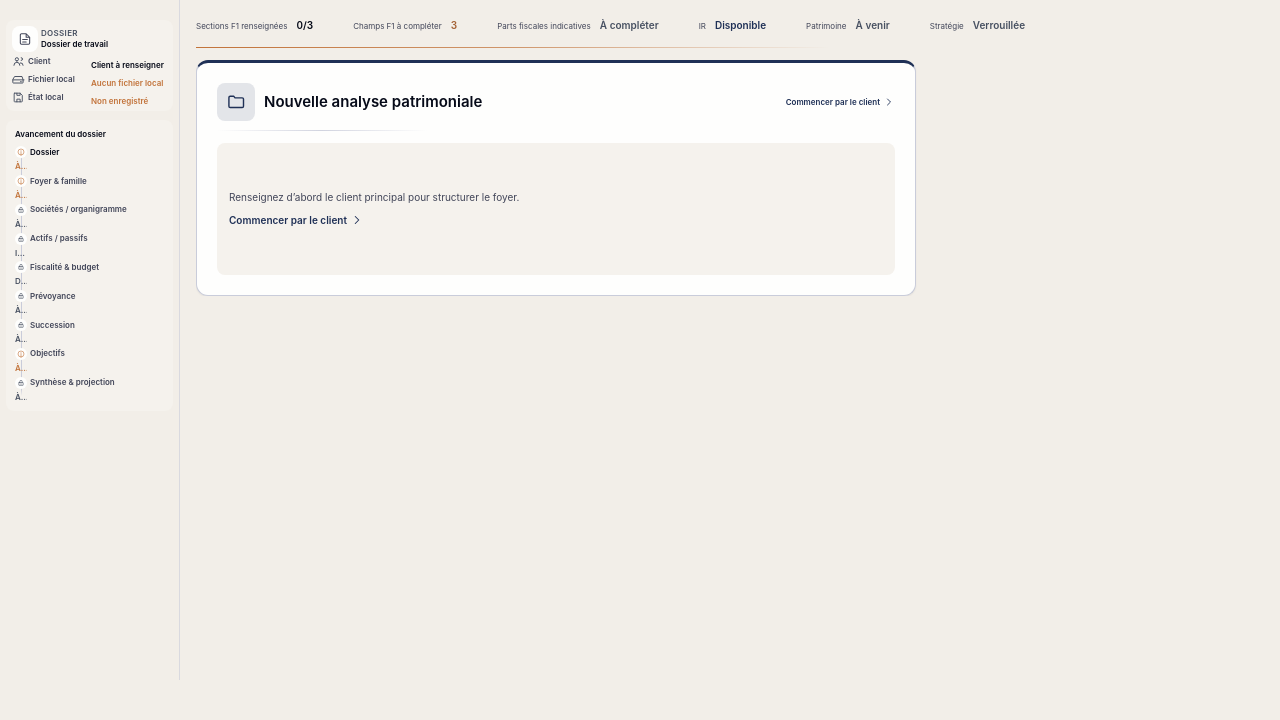
Test: AuditPage › rend chaque page cockpit atteignable depuis le rail gauche
Click the button "Foyer & famille À compléter" at (90, 188), box [15, 175, 164, 201]
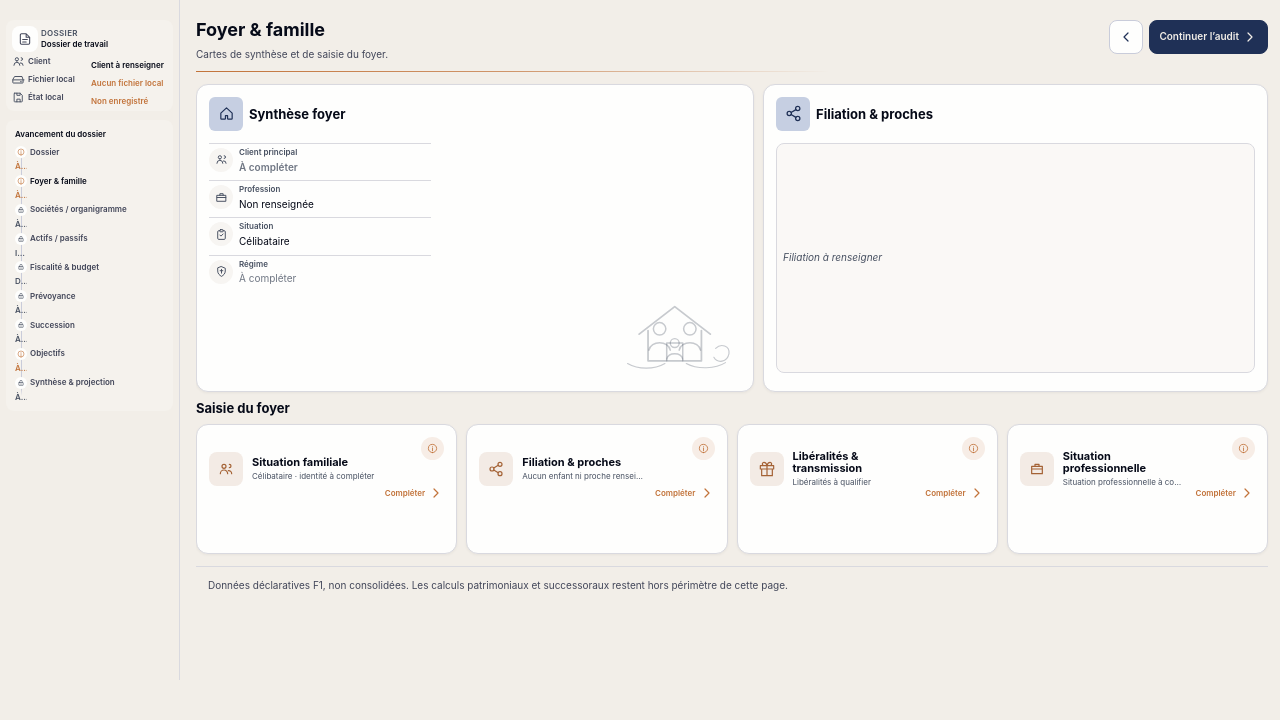
Check: the heading "Foyer & famille" is shown, box [196, 19, 325, 40]
Check: the text "Sections F1 renseignées" is gone
Click the button "Continuer l’audit" at (1209, 37), box [1149, 20, 1268, 54]
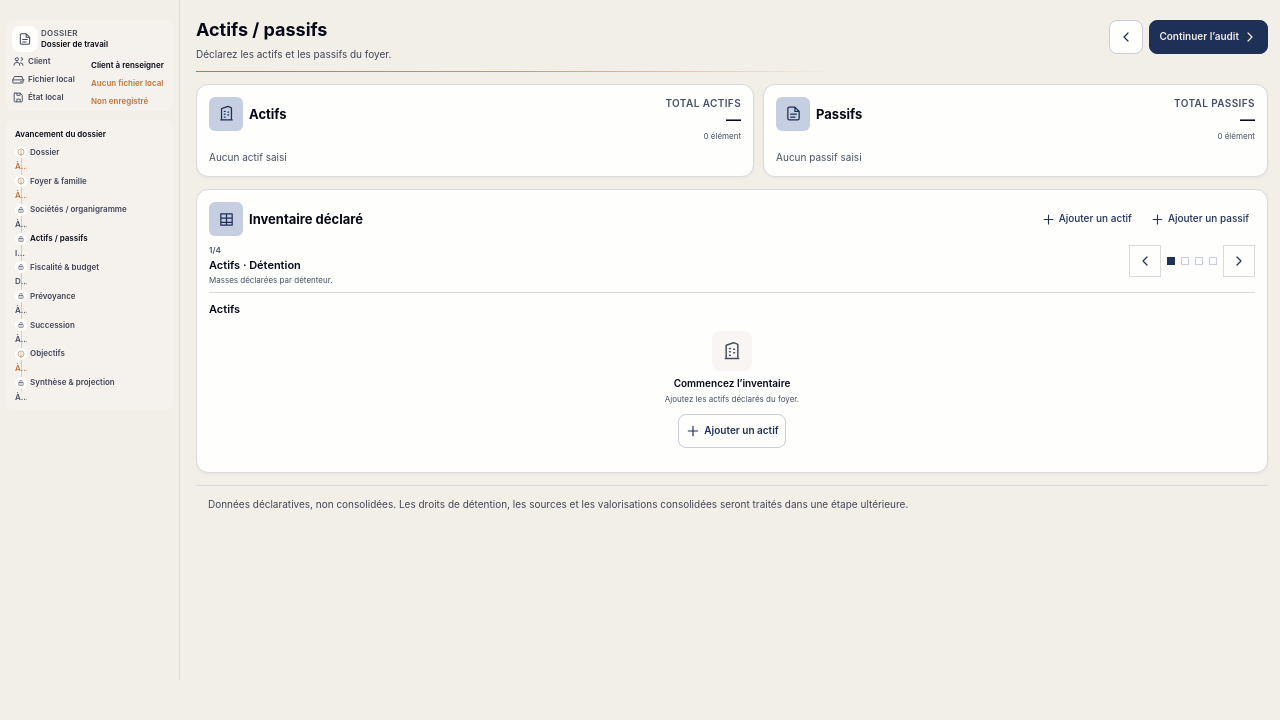
Check: the heading "Actifs / passifs" is shown, box [196, 19, 328, 40]
Check: the text "Données déclaratives" is shown, box [208, 498, 908, 510]
Check: the 1st heading "Actifs" is shown, box [249, 107, 287, 121]
Click the button "Fiscalité & budget Déclaratif" at (90, 274), box [15, 261, 164, 287]
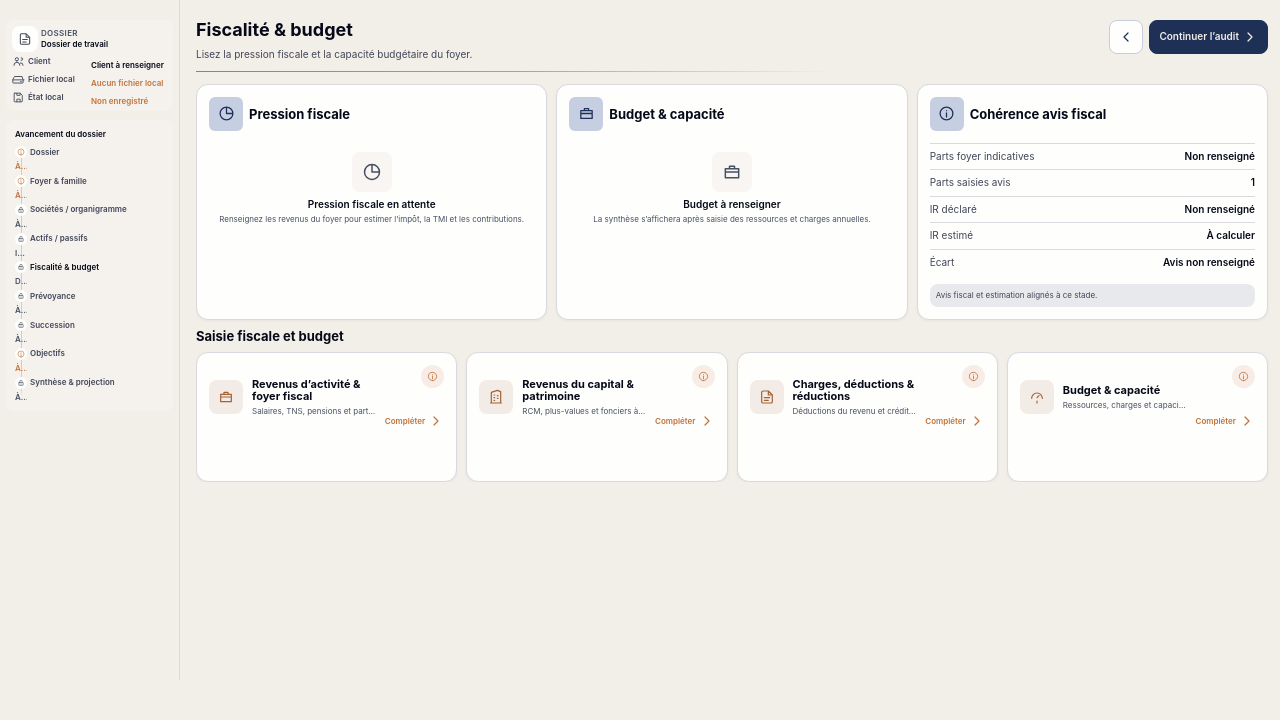
Check: the heading "Fiscalité & budget" is shown, box [196, 19, 353, 40]
Check: the text "Lisez la pression fiscale et la capacité budgétaire du foyer." is shown, box [196, 46, 472, 62]
Check: the heading "Pression fiscale" is shown, box [249, 107, 350, 121]
Click the button "Continuer l’audit" at (1209, 37), box [1149, 20, 1268, 54]
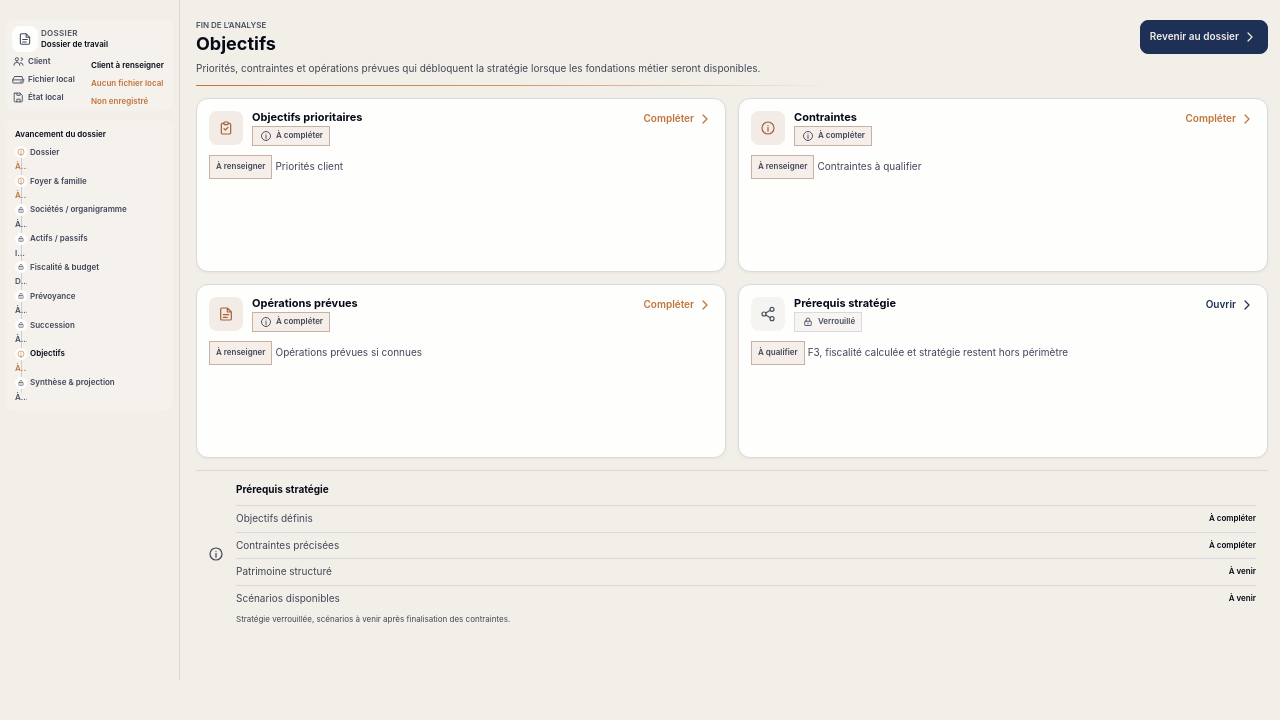
Check: the heading "Objectifs" is shown, box [196, 33, 276, 54]
Check: the button "Revenir au dossier" is shown, box [1140, 20, 1268, 54]
